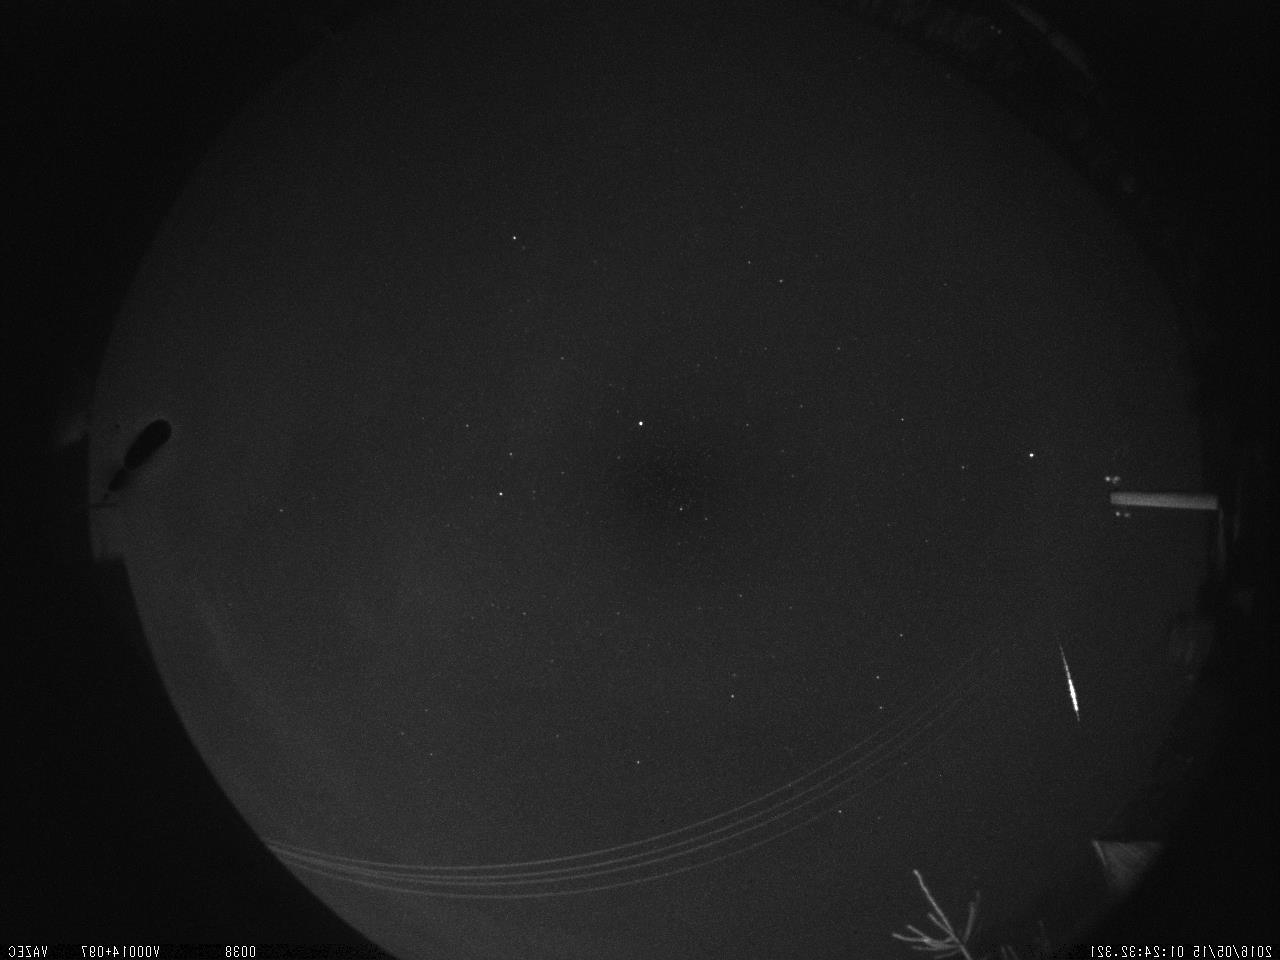meteor: (1042, 630, 1098, 731)
